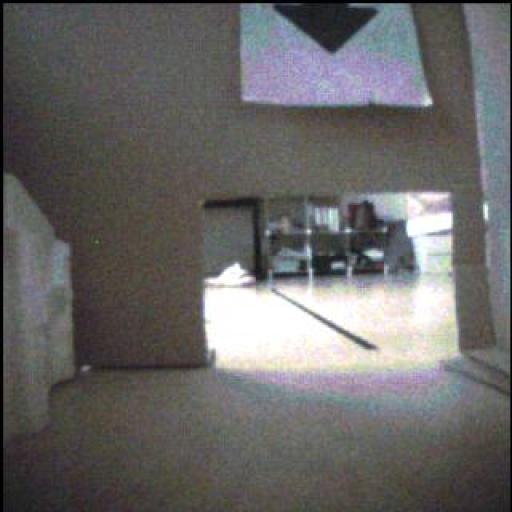arrow: (275, 4, 379, 54)
